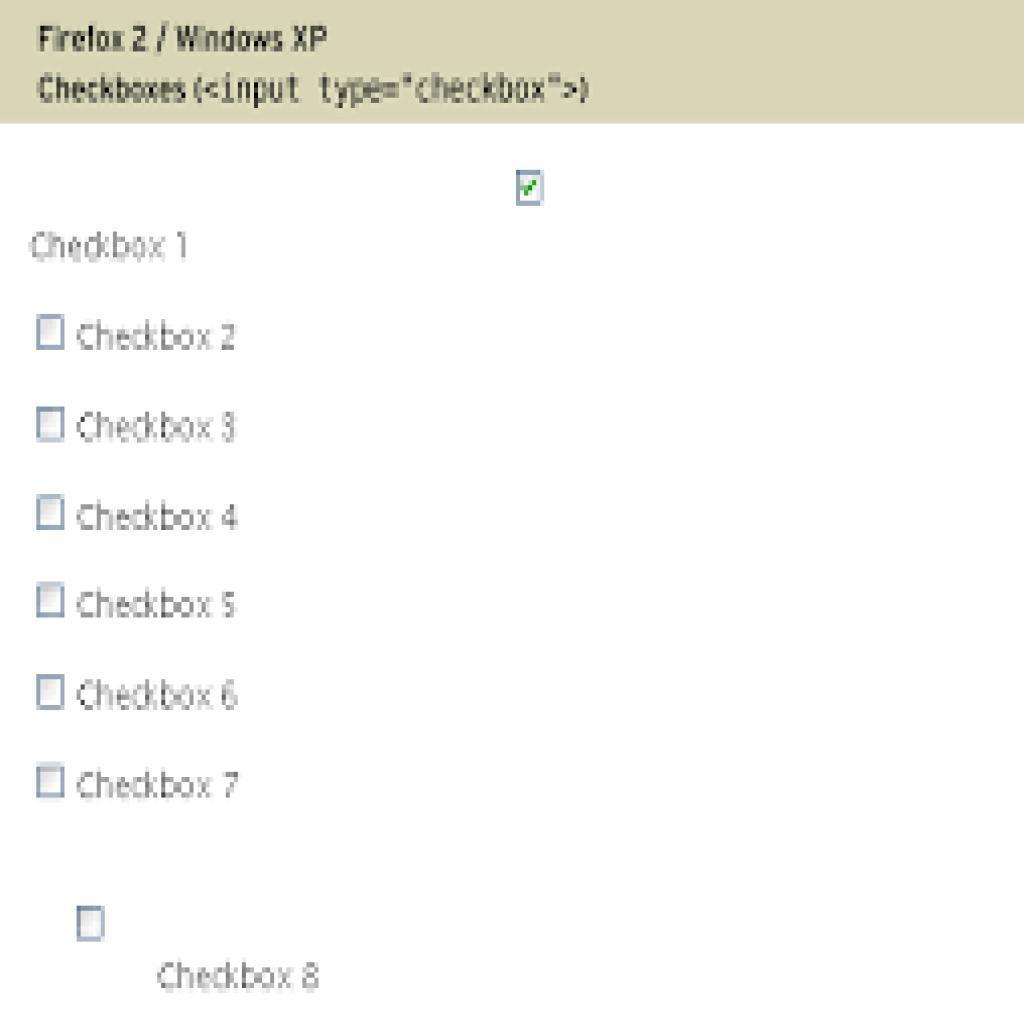checkbox: (35, 675, 69, 711), (36, 766, 69, 798), (35, 586, 65, 621), (517, 171, 545, 208), (37, 315, 66, 350), (35, 409, 65, 442), (37, 495, 66, 528), (77, 910, 105, 939)
label: (81, 673, 240, 723), (154, 963, 326, 1005), (76, 762, 240, 806), (74, 583, 244, 625), (25, 229, 198, 270), (76, 317, 243, 358), (76, 410, 238, 446), (80, 500, 244, 535)
